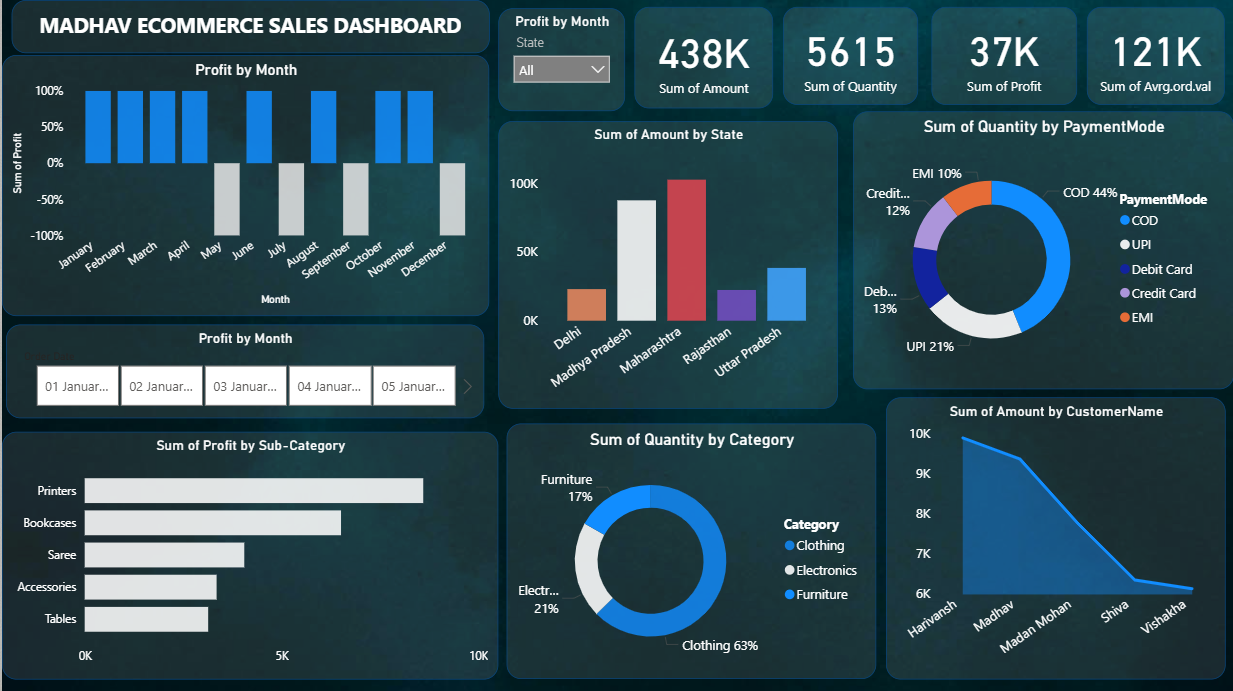

The page's visual inventory and layout, read from the dashboard file:
{"tool":"powerbi","page":{"name":"Page 1","canvas":[1280,720],"ordinal":0},"visuals":[{"type":"textbox","box":[9.6,0,496.5,55],"z":0},{"type":"slicer","title":"Profit by Month","fields":{"Values":["Orders.Order Date.Variation.Date Hierarchy.Quarter"]},"box":[4.1,336.9,496.5,97.6],"z":1000},{"type":"barChart","fields":{"Category":["Details.Sub-Category"],"Y":["Details.Profit"]},"box":[0,448.3,515.7,257.2],"z":2000},{"type":"donutChart","fields":{"Category":["Details.Category"],"Y":["Details.Quantity"]},"box":[524.3,440,384.3,265.7],"z":3000},{"type":"donutChart","fields":{"Category":["Details.PaymentMode","Details.Category"],"Y":["Details.Quantity"]},"box":[884.3,115.7,395.7,288.6],"z":4000},{"type":"card","fields":{"Values":["Details.Amount"]},"box":[657.1,7.1,144.3,105.7],"z":5000},{"type":"card","fields":{"Values":["Details.Quantity"]},"box":[811.4,6.9,140.3,101.8],"z":6000},{"type":"card","fields":{"Values":["Details.Profit"]},"box":[965.4,6.9,151.3,101.8],"z":7000},{"type":"card","fields":{"Values":["Details.Avrg.ord.val"]},"box":[1127.7,6.9,143,101.8],"z":8000},{"type":"lineStackedColumnComboChart","fields":{"Category":["Orders.State","Details.Sub-Category"],"Y":["Details.Amount"]},"box":[515.7,125.7,352.9,298.6],"z":9000},{"type":"areaChart","fields":{"Category":["Orders.CustomerName"],"Y":["Details.Amount"]},"box":[918.6,412.9,352.9,292.9],"z":10000},{"type":"slicer","title":"Profit by Month","fields":{"Values":["Orders.State"]},"box":[515.7,8.6,131.4,107.1],"z":11000},{"type":"hundredPercentStackedColumnChart","title":" Profit by Month","fields":{"Category":["Orders.Order Date.Variation.Date Hierarchy.Month"],"Y":["Details.Profit"]},"box":[0,57.8,506.1,270.9],"z":12000}]}

Visuals, with their boxes in screenshot pixels (x1, y1, x2, y2), scaled from the page's 1280x720 canvas onto the 1233x691 screenshot:
textbox: (9, 0, 488, 53)
"Profit by Month" slicer: (4, 323, 482, 417)
barChart - Details.Sub-Category x Details.Profit: (0, 430, 497, 677)
donutChart - Details.Category x Details.Quantity: (505, 422, 875, 677)
donutChart - Details.PaymentMode x Details.Category: (852, 111, 1232, 388)
card - Details.Amount: (633, 7, 772, 108)
card - Details.Quantity: (782, 7, 917, 104)
card - Details.Profit: (930, 7, 1076, 104)
card - Details.Avrg.ord.val: (1086, 7, 1224, 104)
lineStackedColumnComboChart - Orders.State x Details.Sub-Category: (497, 121, 837, 407)
areaChart - Orders.CustomerName x Details.Amount: (885, 396, 1225, 677)
"Profit by Month" slicer: (497, 8, 623, 111)
" Profit by Month" hundredPercentStackedColumnChart: (0, 55, 488, 315)
